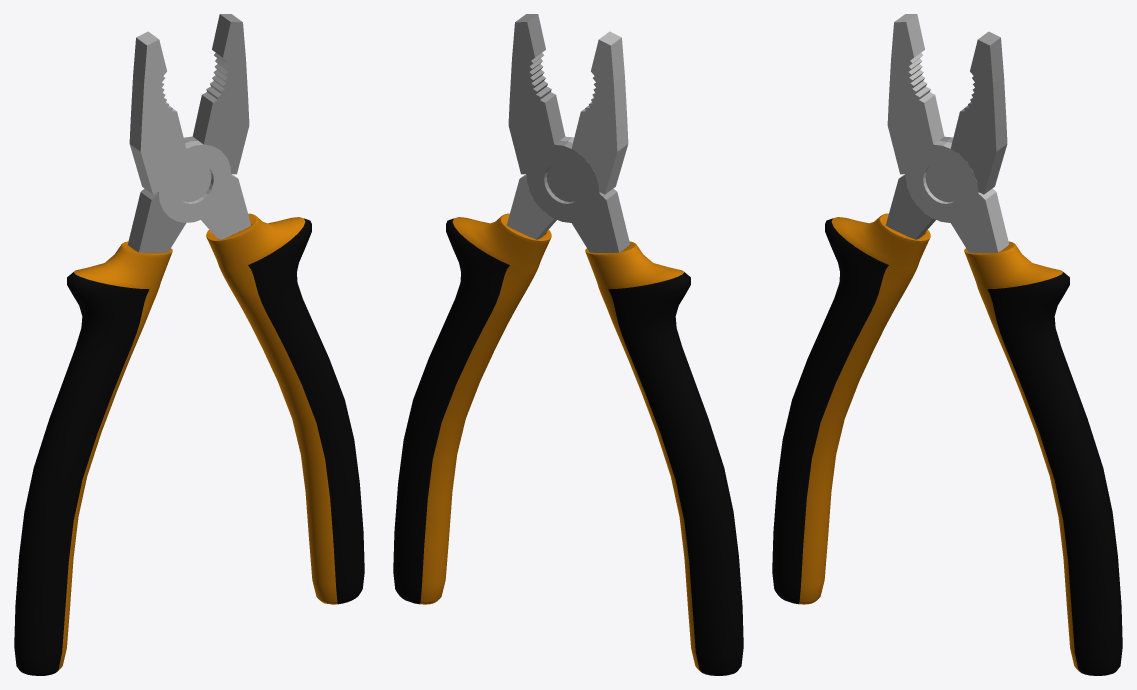
Rendered from Pliers.obj.
The picture shows the model from 3 angles, left to right: view 1: azimuth 30°, elevation 25°; view 2: azimuth 150°, elevation 25°; view 3: azimuth 330°, elevation 25°; orthographic projection.
Parts seen in each view (by area): view 1: pDisc5, pDisc6; view 2: pDisc6, pDisc5; view 3: pDisc5, pDisc6.
Part boxes in pixels (x1,y1,x2,y2): pDisc5: [129, 31, 364, 604]; pDisc6: [14, 14, 249, 675]; pDisc6: [508, 14, 743, 675]; pDisc5: [393, 31, 628, 604]; pDisc5: [887, 14, 1122, 675]; pDisc6: [772, 31, 1007, 604].
Size of the model in its own units: 18.38 by 30.91 by 2.12.
